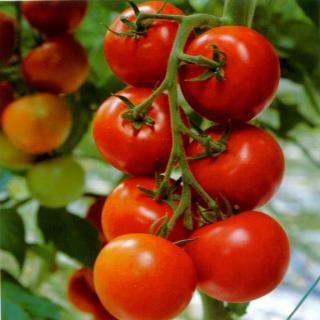Tomat: (178, 26, 281, 126), (184, 211, 292, 304), (180, 122, 286, 214), (90, 88, 194, 178), (93, 233, 198, 320), (103, 1, 196, 89), (101, 175, 194, 245)
